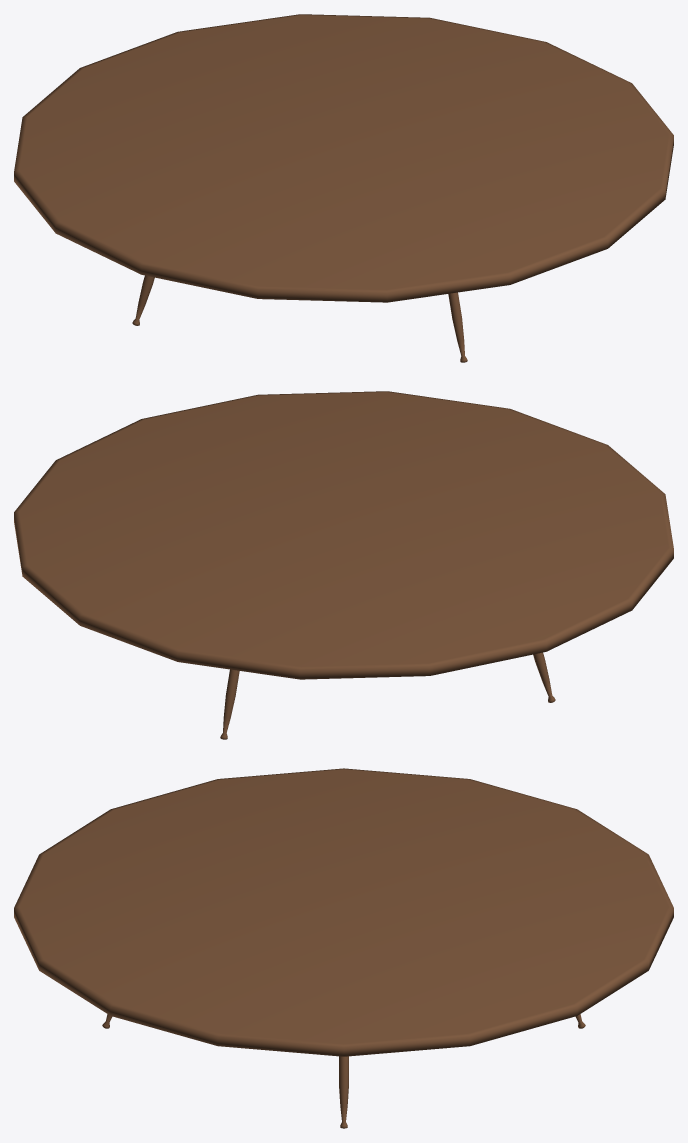
The model's file is Table.glb.
3 views of the same model, one above another, from view 1: azimuth 30°, elevation 25°; view 2: azimuth 150°, elevation 25°; view 3: azimuth 270°, elevation 25° (orthographic).
Visible parts, largest first — view 1: Table; view 2: Table; view 3: Table.
Boxes of the visible parts, bbox=[...] form: Table: bbox=[14, 14, 673, 362]; Table: bbox=[14, 391, 673, 739]; Table: bbox=[14, 768, 673, 1128].
Size of the model in its own units: 5 by 1.01 by 5.
